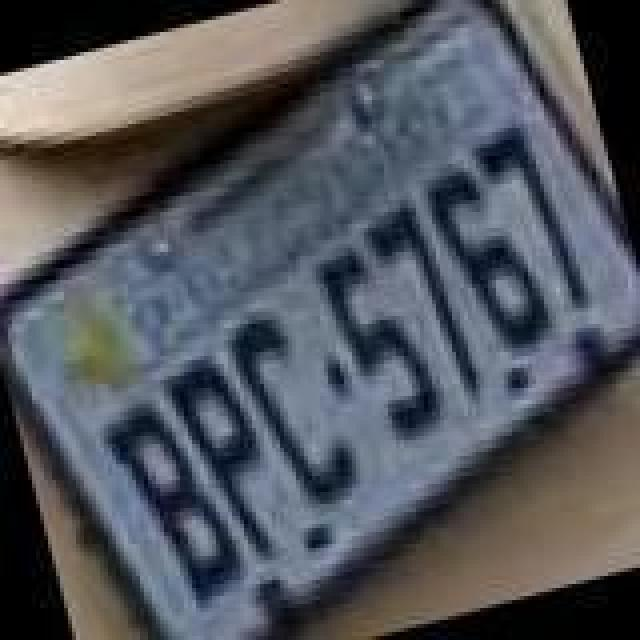5: (310, 234, 450, 454)
6: (418, 152, 558, 360)
7: (358, 194, 490, 414), (468, 116, 596, 324)
B: (98, 388, 254, 628)
C: (224, 296, 368, 520)
P: (158, 352, 290, 576)
